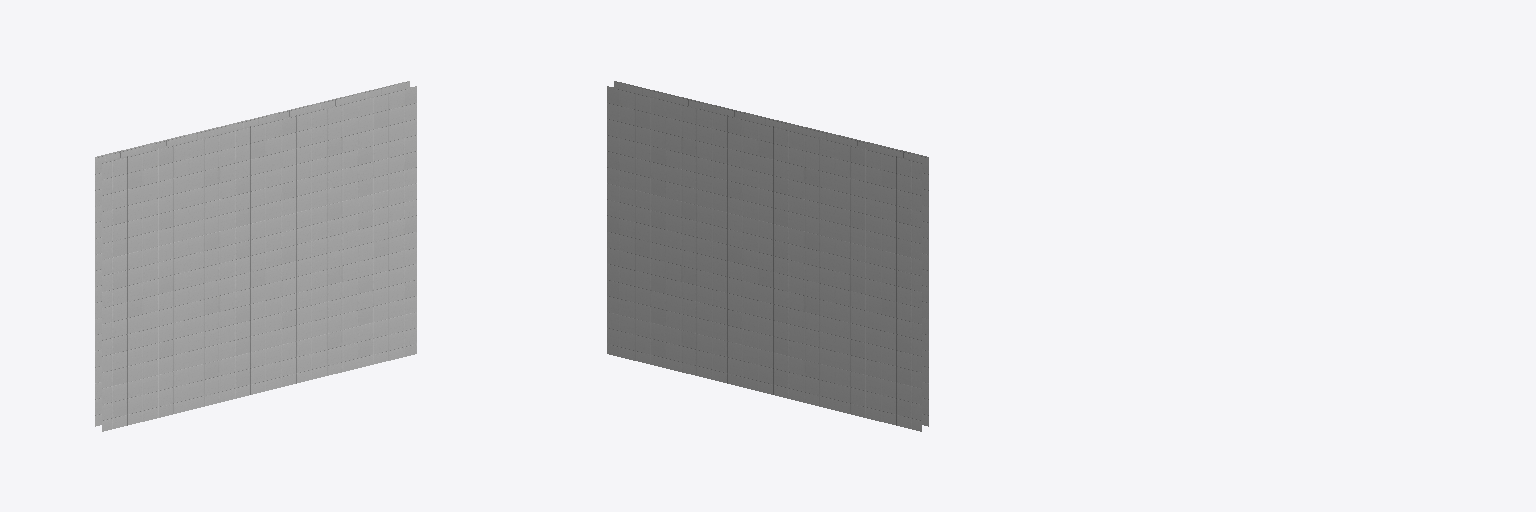
The picture shows the model from 3 angles: view 1: azimuth 30°, elevation 25°; view 2: azimuth 150°, elevation 25°; view 3: azimuth 270°, elevation 25°; orthographic projection.
Visible parts, largest first — view 1: floor_7; view 2: floor_7; view 3: none.
Part boxes in pixels (x1,y1,x2,y2): floor_7: (95,81,416,431); floor_7: (607,81,928,431).
Size of the model in its own units: 2.57 by 2.1 by 0.1.
1 materials, 1 textured.